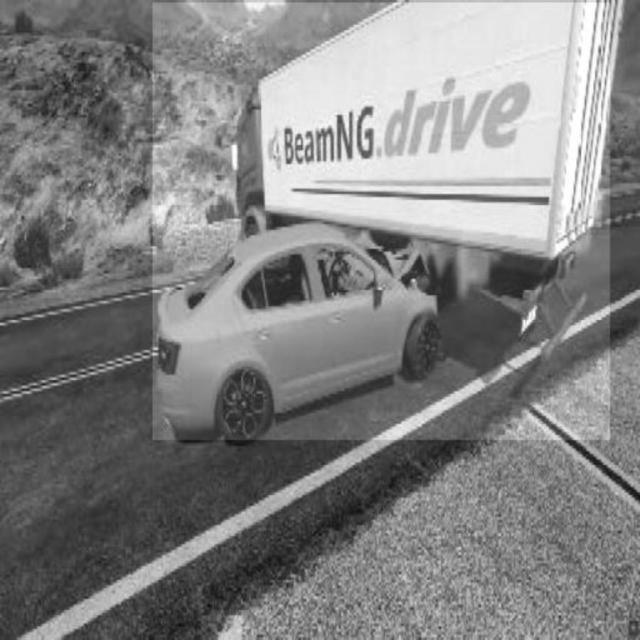accident: (153, 2, 610, 440)
